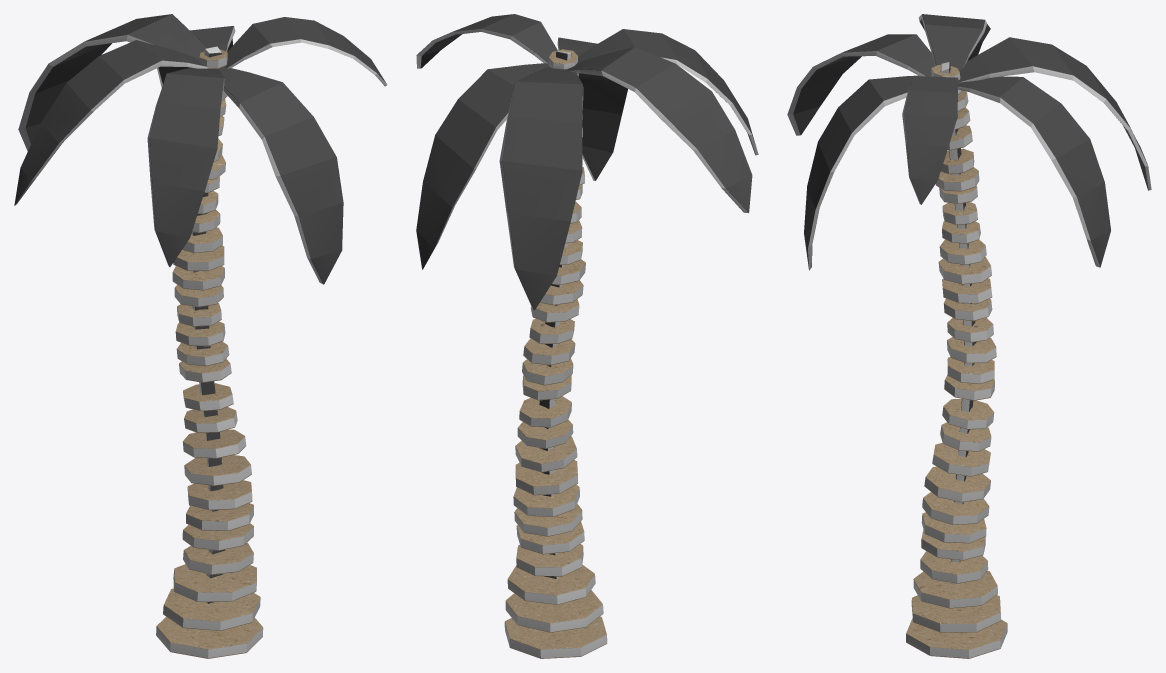
File: SM_CoconutTree.FBX
3 renders of one model, left to right at view 1: azimuth 30°, elevation 25°; view 2: azimuth 150°, elevation 25°; view 3: azimuth 270°, elevation 25°, orthographic. The views are drawn at different scales.
Visible parts, largest first — view 1: SM_CoconutTree; view 2: SM_CoconutTree; view 3: SM_CoconutTree.
Boxes of the visible parts, x1=… form: SM_CoconutTree: x1=14, y1=14, x2=387, y2=658; SM_CoconutTree: x1=416, y1=14, x2=758, y2=658; SM_CoconutTree: x1=787, y1=14, x2=1151, y2=658.
Bounding box in the file's own units: 9.05 × 14.71 × 8.33.
